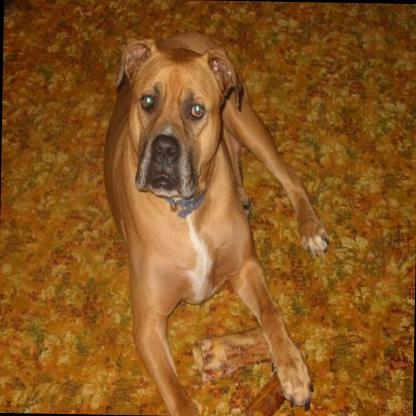bull_mastiff: (97, 28, 336, 416)
